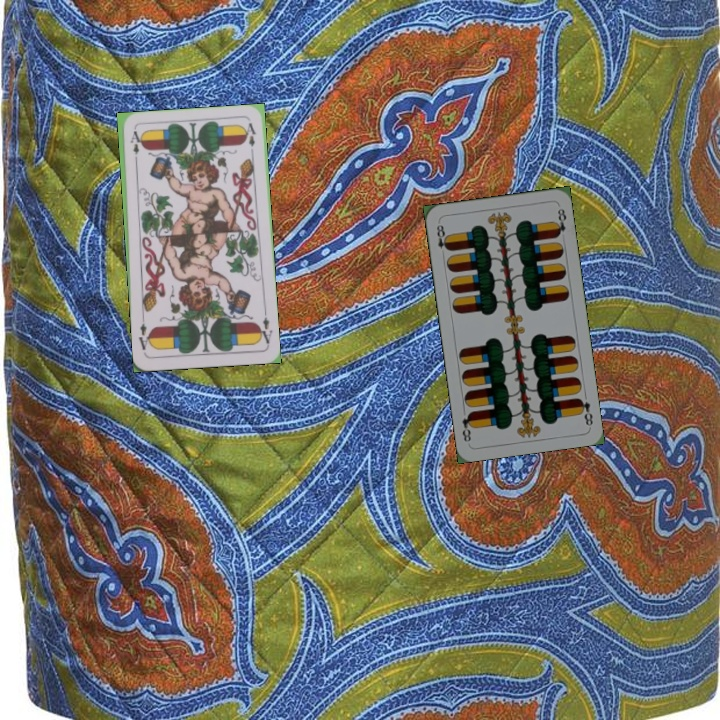E8: (574, 394, 595, 429), (433, 219, 452, 253)
EA: (254, 313, 275, 347), (126, 127, 142, 167)
